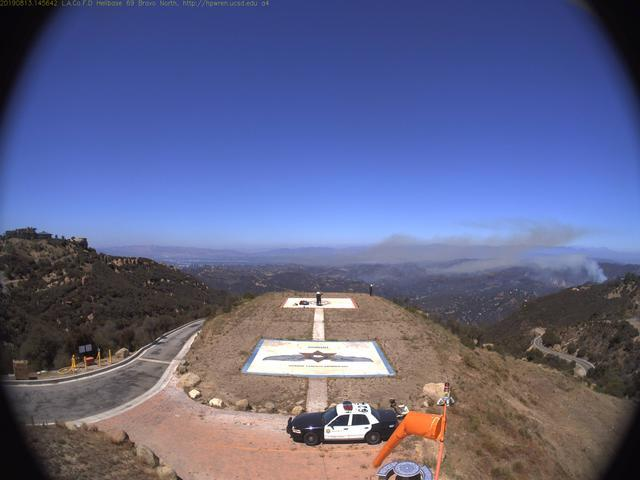smoke: (430, 229, 606, 289)
